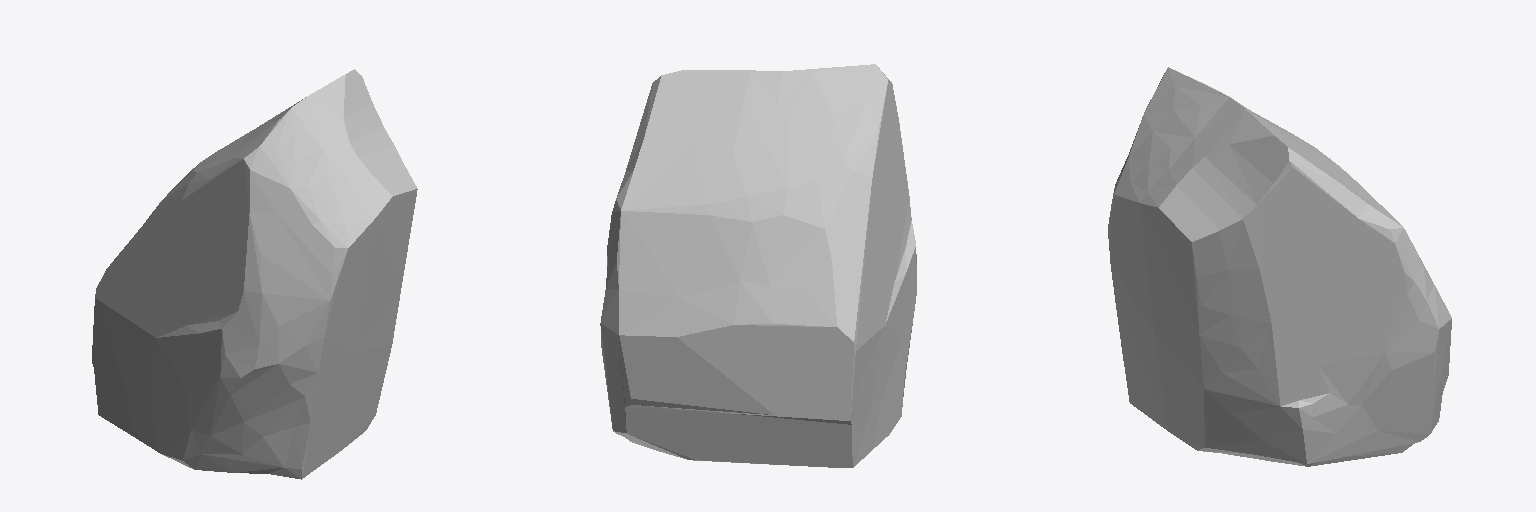
File: sm_rock3.OBJ
The picture shows the model from 3 angles: view 1: azimuth 30°, elevation 25°; view 2: azimuth 150°, elevation 25°; view 3: azimuth 270°, elevation 25°; orthographic projection.
Parts seen in each view (by area): view 1: ZBrushPolyMesh3D; view 2: ZBrushPolyMesh3D; view 3: ZBrushPolyMesh3D.
Part boxes in pixels (x1,y1,x2,y2): ZBrushPolyMesh3D: (92, 69, 417, 479); ZBrushPolyMesh3D: (600, 64, 916, 467); ZBrushPolyMesh3D: (1108, 67, 1451, 466).
Size of the model in its own units: 0.995 by 1.26 by 1.19.